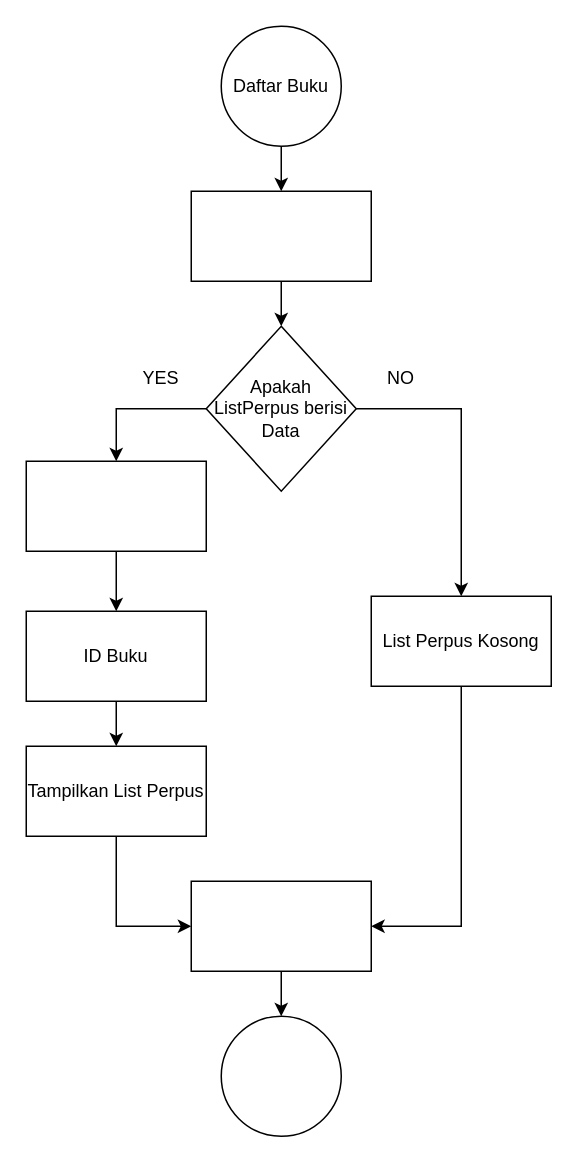
The diagram is 578 pixels wide and 1163 high, and some of its shapes have lost their labels. The shapes that lost their labels are listed below. From the top down, each one's centre as x and y in pixels, then its label:
pixel 280 235: Start
pixel 115 505: Looping List perpus
pixel 280 925: Selesai
